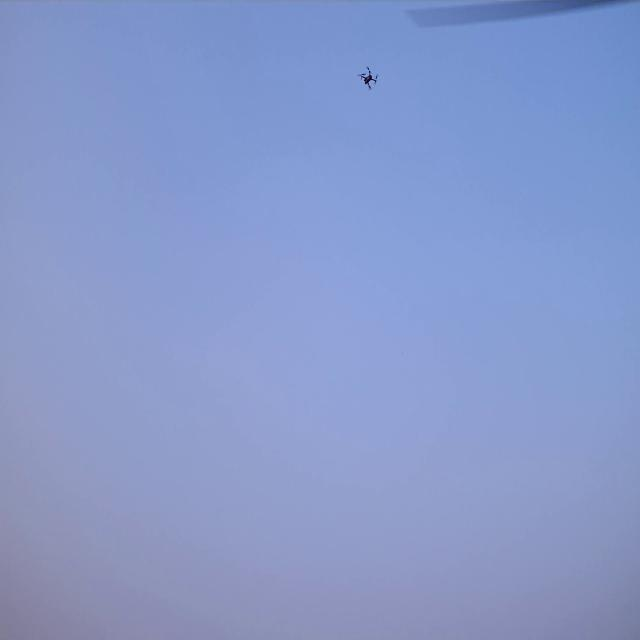UAV: (358, 65, 379, 90)
